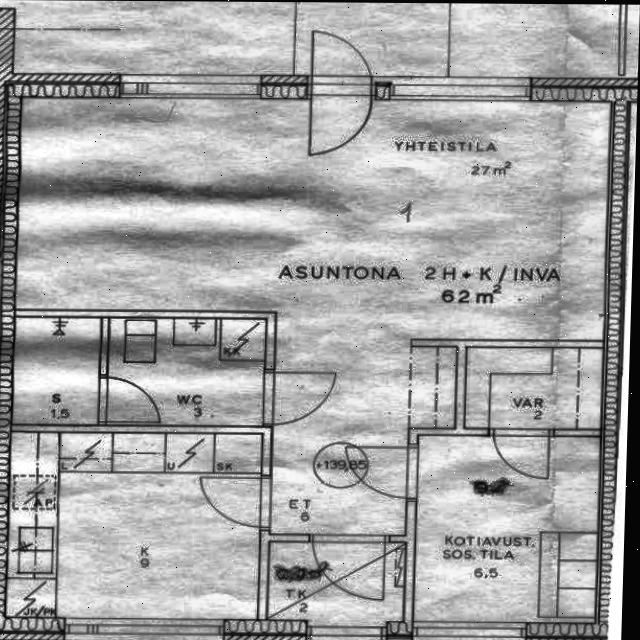room: (5, 431, 263, 620), (413, 432, 600, 627), (106, 318, 267, 426), (465, 347, 604, 430), (267, 542, 406, 622), (11, 315, 102, 427)
